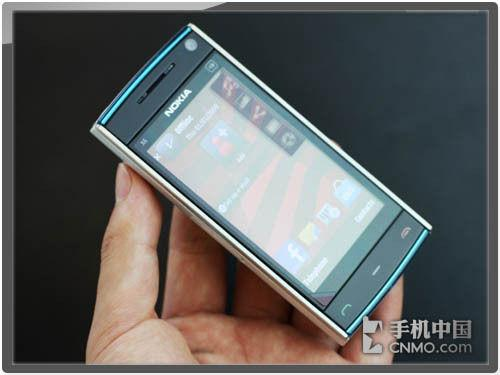phone: (126, 38, 380, 298)
